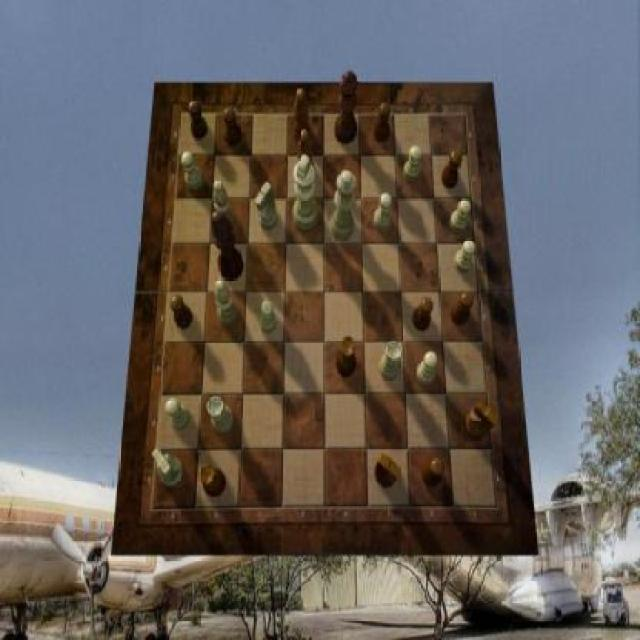bishop: (297, 130, 316, 186), (294, 88, 311, 145)
black-bishop: (211, 211, 244, 280)
black-king: (465, 400, 500, 440), (376, 452, 402, 487)
black-knight: (188, 100, 208, 140), (171, 294, 193, 330), (451, 291, 474, 325), (442, 151, 462, 189), (412, 297, 433, 331), (422, 457, 444, 488), (374, 103, 391, 143), (225, 108, 242, 146)
black-pawn: (336, 70, 358, 144)
black-queen: (199, 464, 226, 498), (337, 335, 357, 378)
black-rook: (216, 280, 240, 328), (213, 180, 234, 232)
white-bishop: (294, 156, 318, 232)
white-king: (152, 448, 185, 488), (256, 182, 278, 230)
white-knight: (181, 151, 204, 189), (166, 398, 191, 431), (449, 198, 472, 232), (454, 239, 476, 273), (417, 350, 438, 384), (374, 192, 391, 230), (403, 146, 421, 181), (259, 299, 276, 333)
white-pawn: (330, 171, 358, 240)
white-queen: (208, 397, 235, 435), (380, 342, 403, 382)
